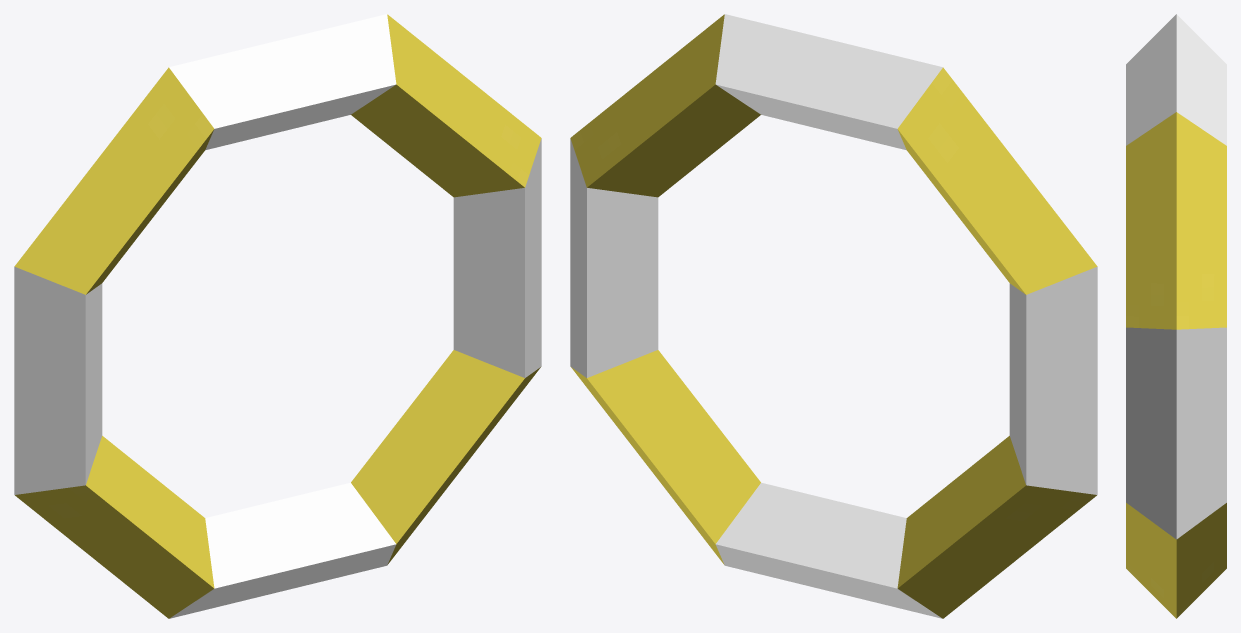
The model's file is wisp_core_ring_0.obj.
The picture shows the model from 3 angles, left to right: view 1: azimuth 30°, elevation 25°; view 2: azimuth 150°, elevation 25°; view 3: azimuth 270°, elevation 25°; orthographic projection. The views are drawn at different scales.
Visible parts, largest first — view 1: Torus; view 2: Torus; view 3: Torus.
Part boxes in pixels (<box>): Torus: <box>14,14,541,618</box>; Torus: <box>570,14,1097,618</box>; Torus: <box>1126,14,1226,618</box>.
Size of the model in its own units: 1.11 by 1.11 by 0.2.
